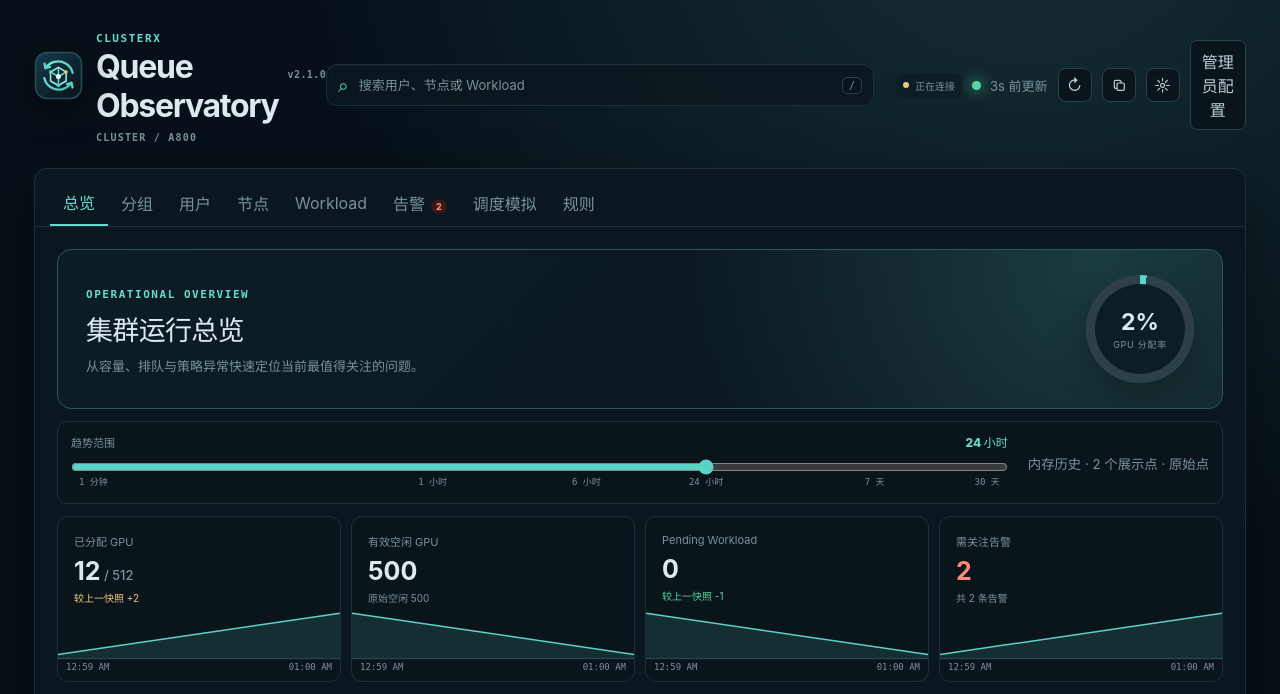
it: Clusterx monitor dashboard › shows effective node assignments in rules and group/node details
The image size is (1280, 694).
Expected: the heading "Queue Observatory" is shown, [96, 47, 278, 125]
Click the button with aria-label "rules" at (579, 203), box [550, 180, 608, 226]
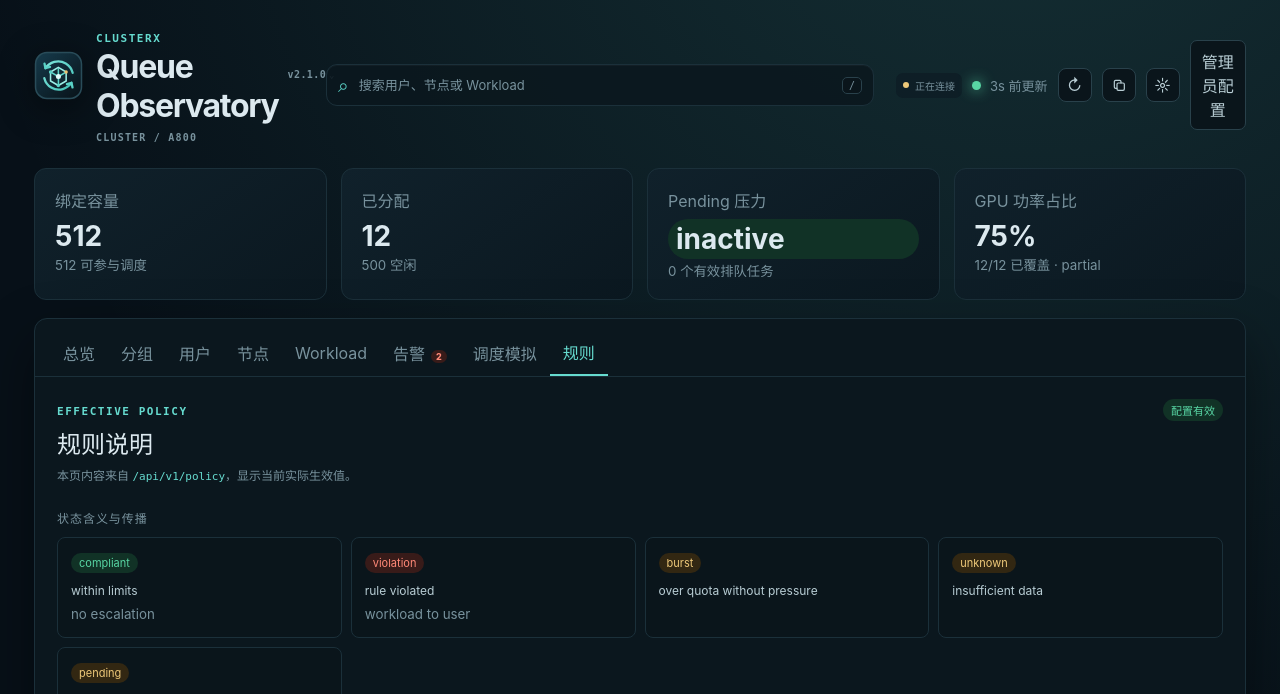
Click the button with aria-label "groups" at (137, 353), box [108, 330, 166, 376]
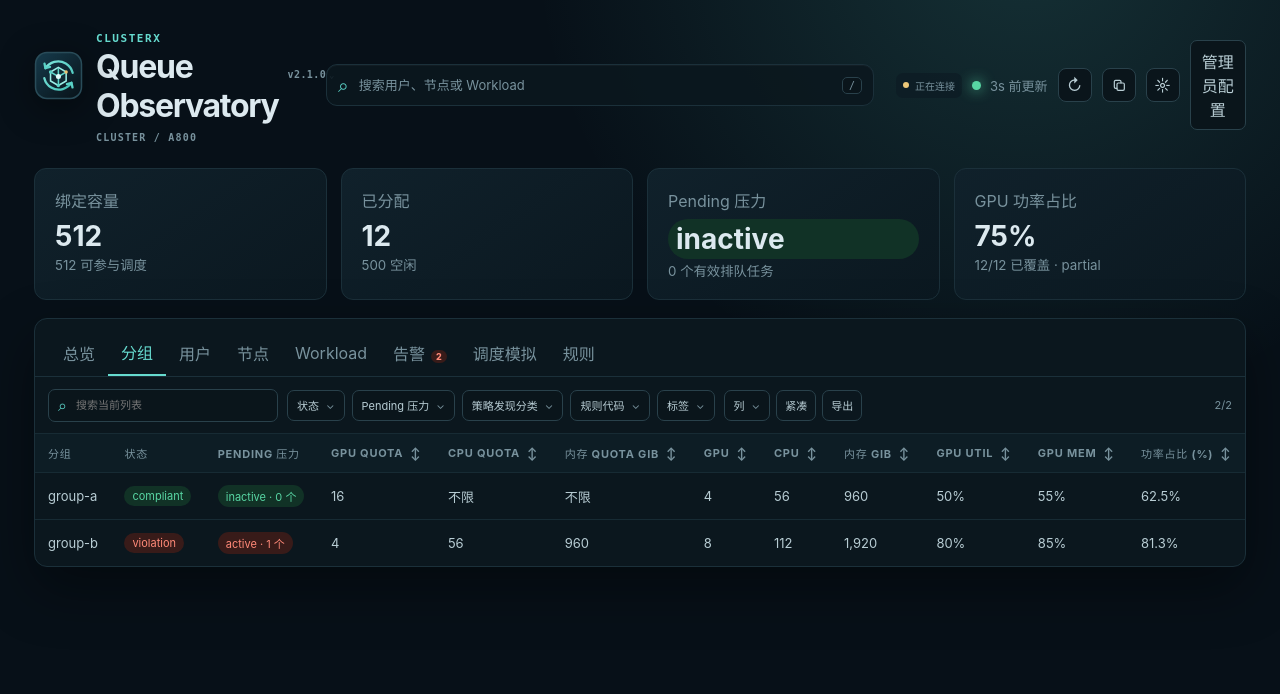
Click the row named "查看 group-a 详情" at (640, 496), box [35, 472, 1245, 520]
(page scrolled)
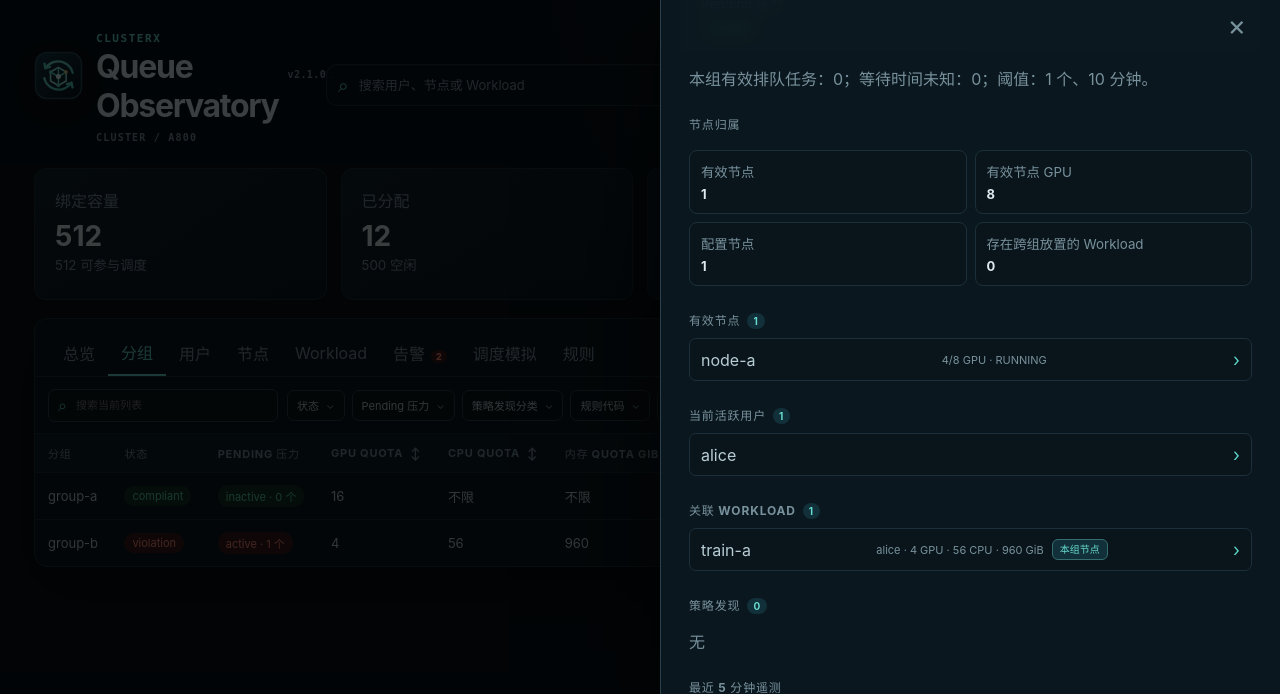
Expected: the dialog named "group-a 详情" shows "有效节点 GPU", [986, 164, 1072, 180]
Expected: the dialog named "group-a 详情" shows "node-a"
Click the button "node-a 4/8 GPU · RUNNING ›" at (970, 360), box [689, 338, 1252, 381]
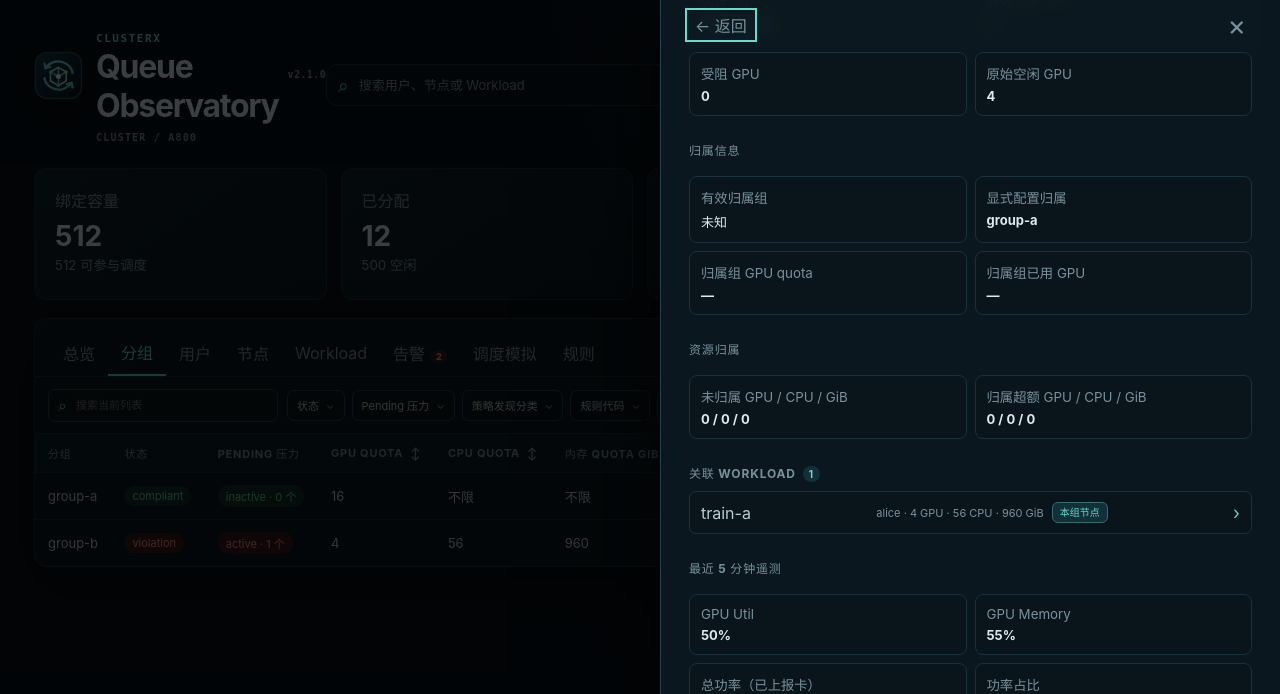
Expected: the dialog named "node-a 详情" shows "有效归属组", [701, 190, 768, 206]
Expected: the dialog named "node-a 详情" shows "group-a", [986, 212, 1038, 228]
